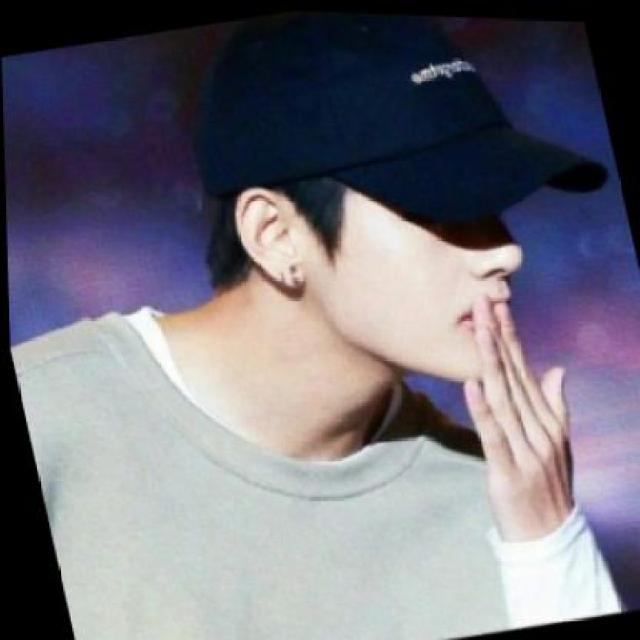hat: (167, 5, 616, 276)
